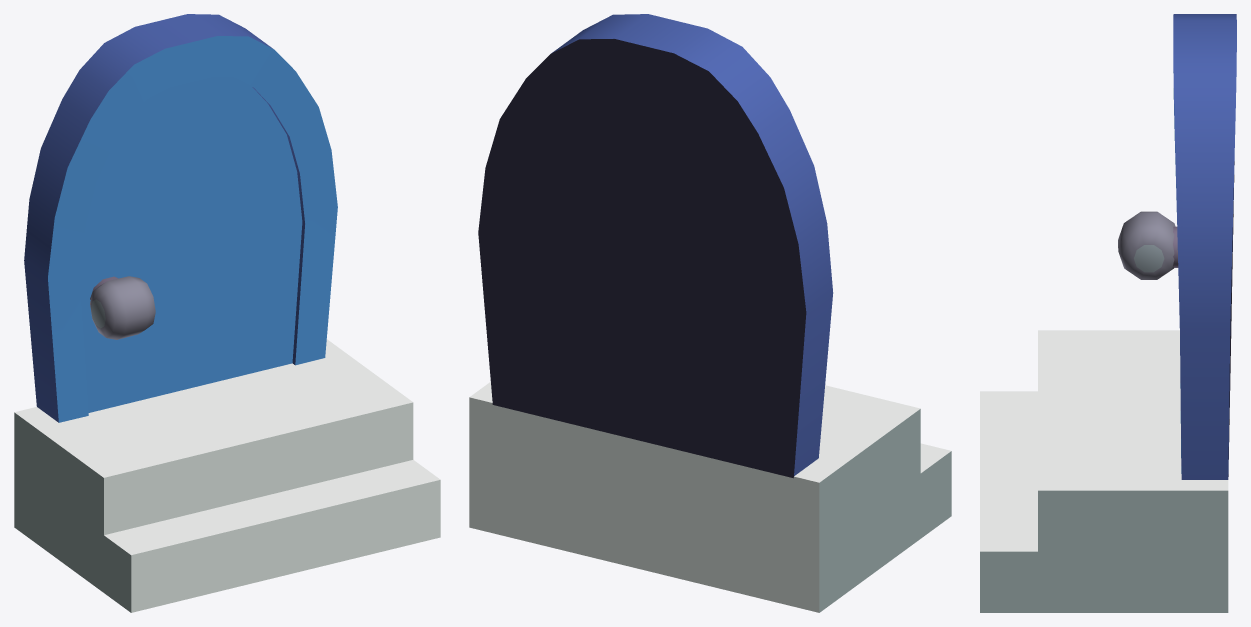
Rendered from Door03_Blue_White.glb.
3 renders of one model, left to right at view 1: azimuth 30°, elevation 25°; view 2: azimuth 150°, elevation 25°; view 3: azimuth 270°, elevation 25°, orthographic. The views are drawn at different scales.
Visible parts, largest first — view 1: Door03_Blue_White; view 2: Door03_Blue_White; view 3: Door03_Blue_White.
Boxes of the visible parts, x1,y1,x2,y2 form: Door03_Blue_White: [14, 14, 440, 612]; Door03_Blue_White: [469, 14, 951, 612]; Door03_Blue_White: [980, 14, 1236, 612].
Bounding box in the file's own units: 0.9795 × 1.41 × 0.6625.
Materials: 1 (1 with a texture image).
